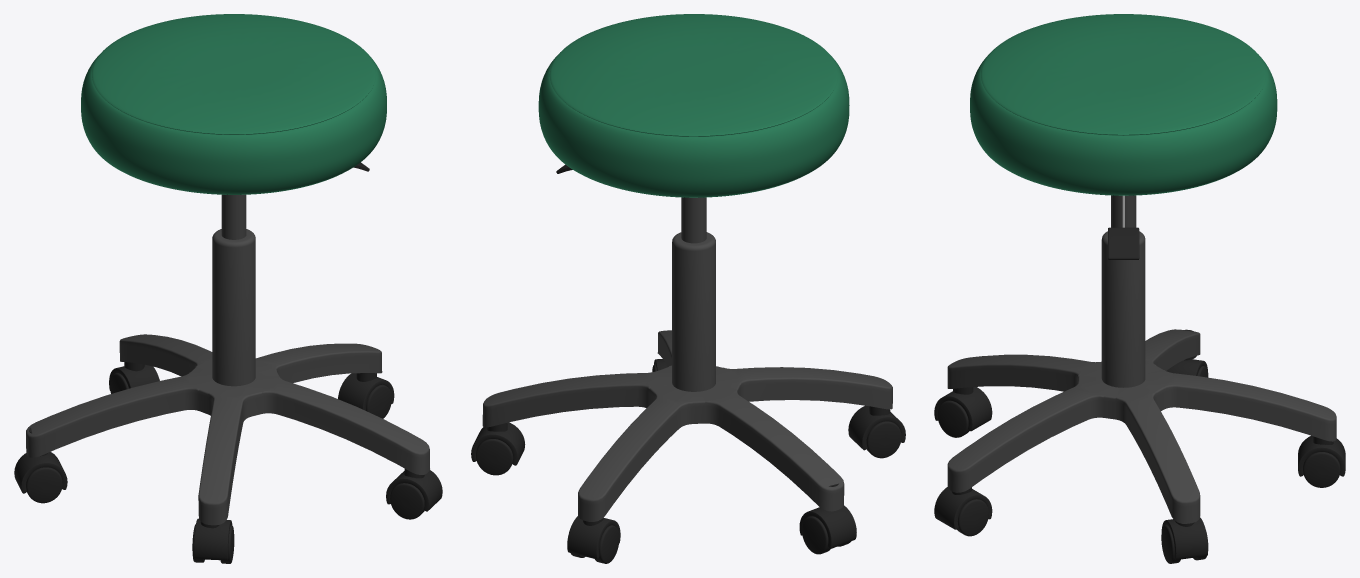
File: sessal.FBX
The picture shows the model from 3 angles, left to right: view 1: azimuth 30°, elevation 25°; view 2: azimuth 150°, elevation 25°; view 3: azimuth 270°, elevation 25°; orthographic projection.
Visible parts, largest first — view 1: ExamStool_01; view 2: ExamStool_01; view 3: ExamStool_01.
Boxes of the visible parts, x1,y1,x2,y2 form: ExamStool_01: [14, 14, 442, 563]; ExamStool_01: [471, 14, 905, 563]; ExamStool_01: [934, 14, 1345, 563].
Size of the model in its own units: 270 by 286 by 257.
